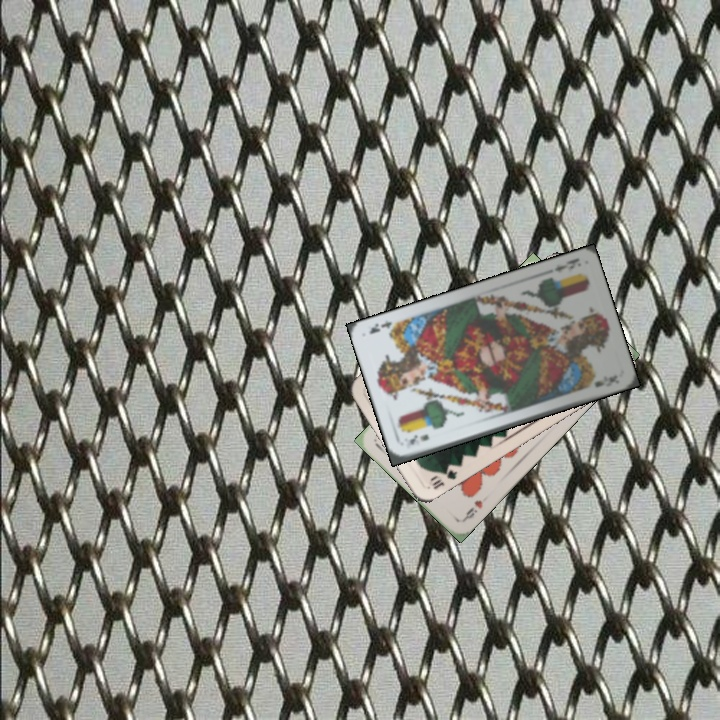EK: (550, 254, 582, 275), (405, 430, 431, 449)
G10: (428, 464, 460, 492)
H9: (459, 496, 485, 524)
